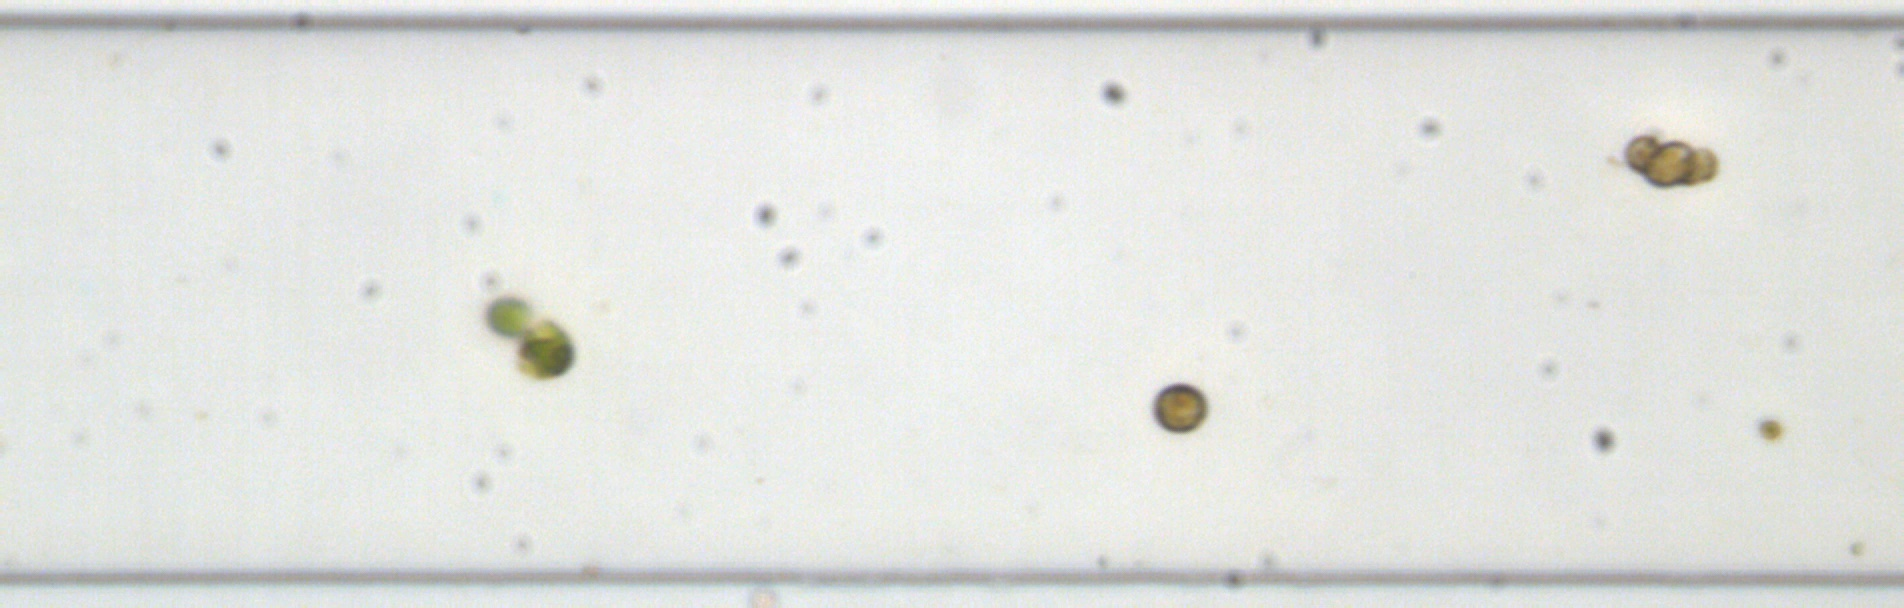Chlorella: (1756, 417, 1780, 439), (1846, 538, 1861, 556)
Effrenium: (1149, 377, 1209, 436), (1642, 140, 1698, 188), (1679, 147, 1718, 187), (1620, 135, 1661, 171)
Platymonas: (509, 316, 579, 382), (481, 294, 534, 337)
